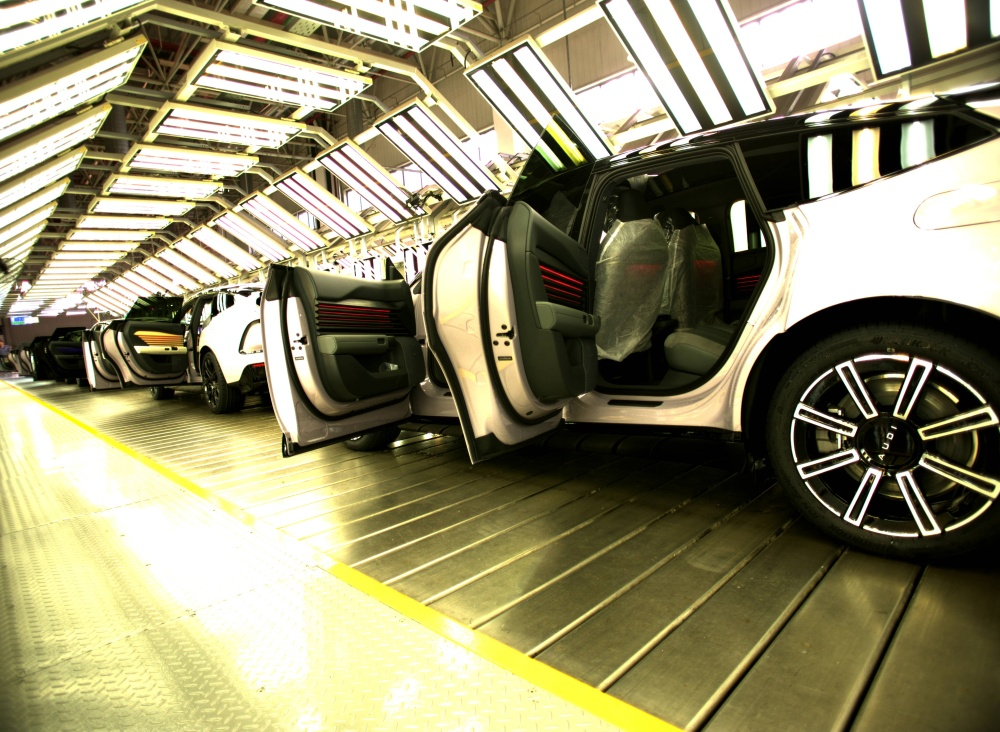armrest_color: (533, 300, 603, 337), (317, 333, 398, 358)
panel_color: (314, 298, 401, 332), (536, 256, 589, 310)
